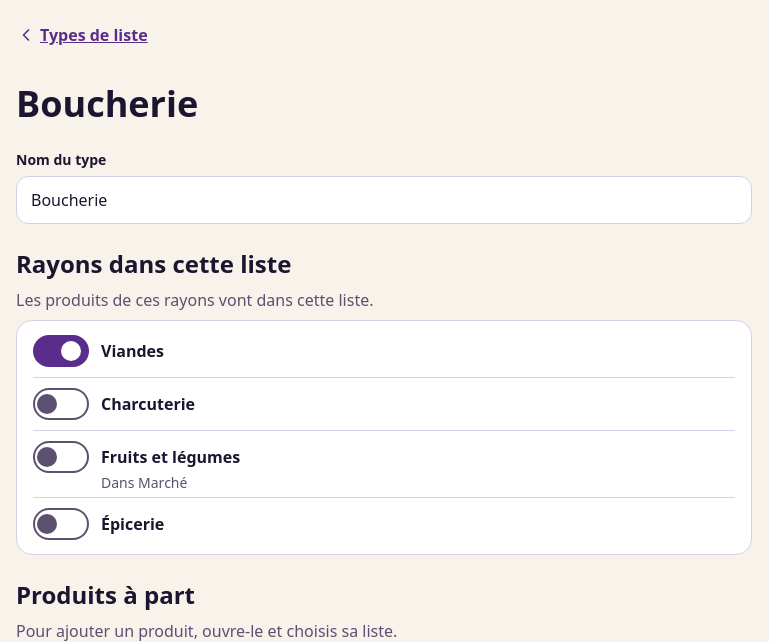
Scenario: fiche d’un type de liste › dit un nom déjà pris sous le champ, et garde ce qui a été tapé
Replace the text in the field labelled "Nom du type" with "Marché". click: (384, 200)
box: [16,176,752,224]
(page scrolled)
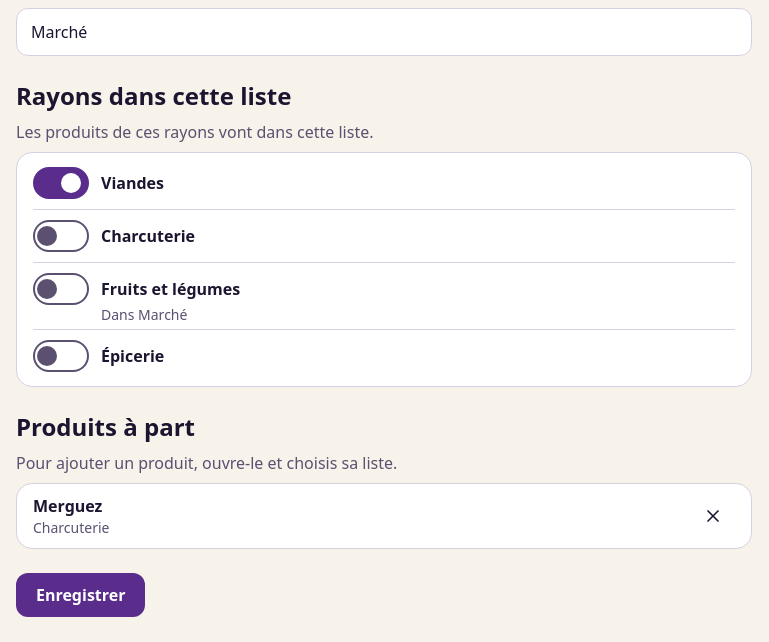
Click the button "Enregistrer". click: (81, 595)
box: [16,573,146,617]
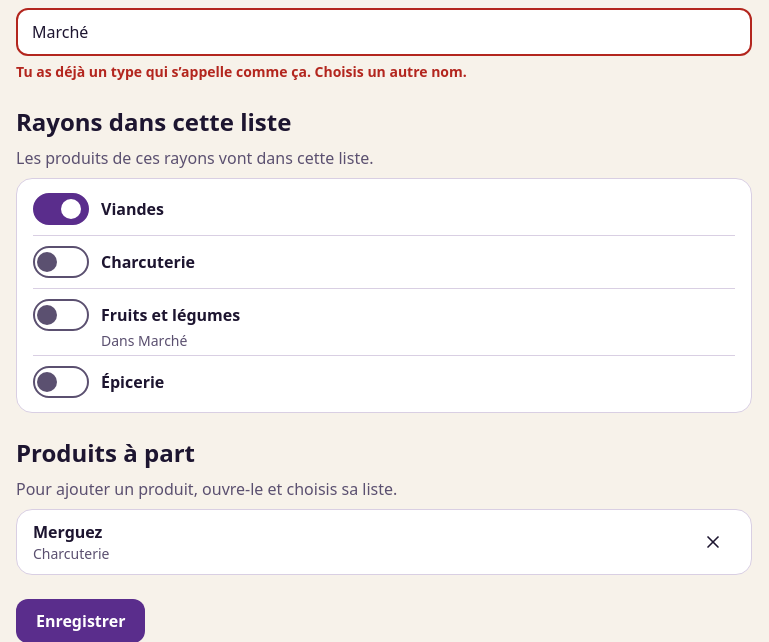
Now the text "Tu as déjà un type qui s’appelle comme ça. Choisis un autre nom." is shown, box [16,62,467,81]
